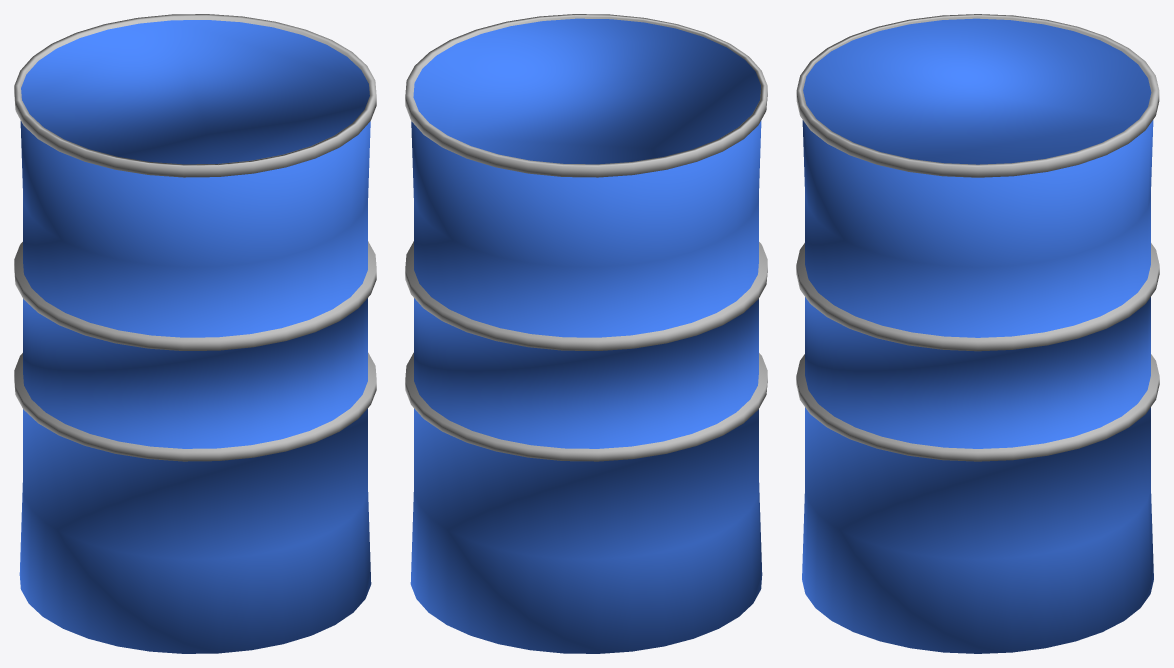
Rendered from barrel.glb.
3 views of the same model, side by side, from view 1: azimuth 30°, elevation 25°; view 2: azimuth 150°, elevation 25°; view 3: azimuth 270°, elevation 25° (orthographic).
Parts seen in each view (by area): view 1: Barrel; view 2: Barrel; view 3: Barrel.
Boxes of the visible parts, bbox=[...] form: Barrel: bbox=[14, 14, 376, 653]; Barrel: bbox=[405, 14, 767, 653]; Barrel: bbox=[796, 14, 1159, 653].
Size of the model in its own units: 0.8251 by 1.23 by 0.8251.
